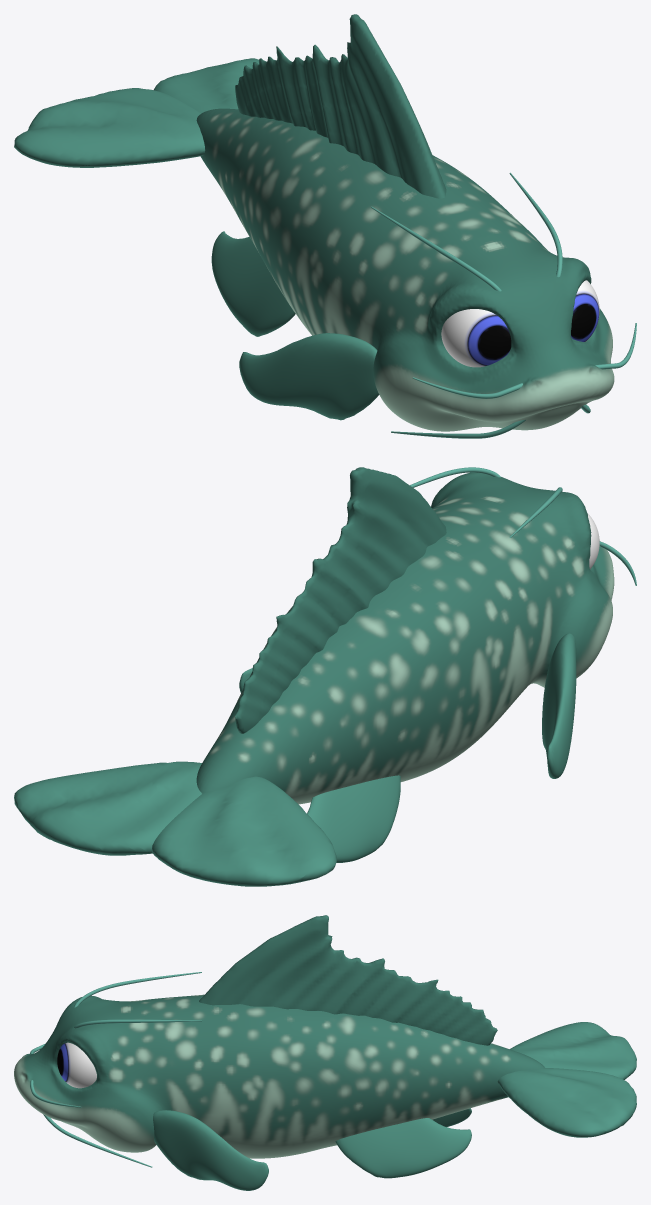
File: Fishes_Little_Catfish_1_Base.glb
3 renders of one model, top to bottom at view 1: azimuth 30°, elevation 25°; view 2: azimuth 150°, elevation 25°; view 3: azimuth 270°, elevation 25°, orthographic. The views are drawn at different scales.
Parts seen in each view (by area): view 1: Sphere.009, Sphere.005, Sphere.007, Sphere.002, Sphere.008, Little fish 02 Eyes_Base.005, NurbsPath; view 2: Sphere.009, Sphere.007, Sphere.005, Sphere.008, Sphere.002, NurbsPath; view 3: Sphere.009, Sphere.005, Sphere.007, Sphere.008, Sphere.002, NurbsPath, Little fish 02 Eyes_Base.005.
Part boxes in pixels (x1=…): Sphere.009: x1=196, y1=108, x2=614, y2=431; Sphere.005: x1=235, y1=14, x2=446, y2=198; Sphere.007: x1=14, y1=58, x2=259, y2=167; Sphere.002: x1=239, y1=333, x2=379, y2=420; Sphere.008: x1=211, y1=231, x2=295, y2=336; Little fish 02 Eyes_Base.005: x1=441, y1=280, x2=599, y2=367; NurbsPath: x1=371, y1=172, x2=636, y2=438; Sphere.009: x1=196, y1=472, x2=614, y2=804; Sphere.007: x1=14, y1=761, x2=336, y2=886; Sphere.005: x1=235, y1=467, x2=446, y2=733; Sphere.008: x1=307, y1=775, x2=400, y2=862; Sphere.002: x1=239, y1=633, x2=576, y2=778; NurbsPath: x1=410, y1=467, x2=636, y2=585; Sphere.009: x1=14, y1=994, x2=544, y2=1158; Sphere.005: x1=199, y1=915, x2=497, y2=1045; Sphere.007: x1=497, y1=1022, x2=636, y2=1137; Sphere.008: x1=335, y1=1108, x2=471, y2=1178; Sphere.002: x1=153, y1=1110, x2=268, y2=1190; NurbsPath: x1=30, y1=972, x2=201, y2=1167; Little fish 02 Eyes_Base.005: x1=57, y1=1042, x2=96, y2=1088.
Bounding box in the file's own units: 0.5138 × 0.5247 × 1.23.
